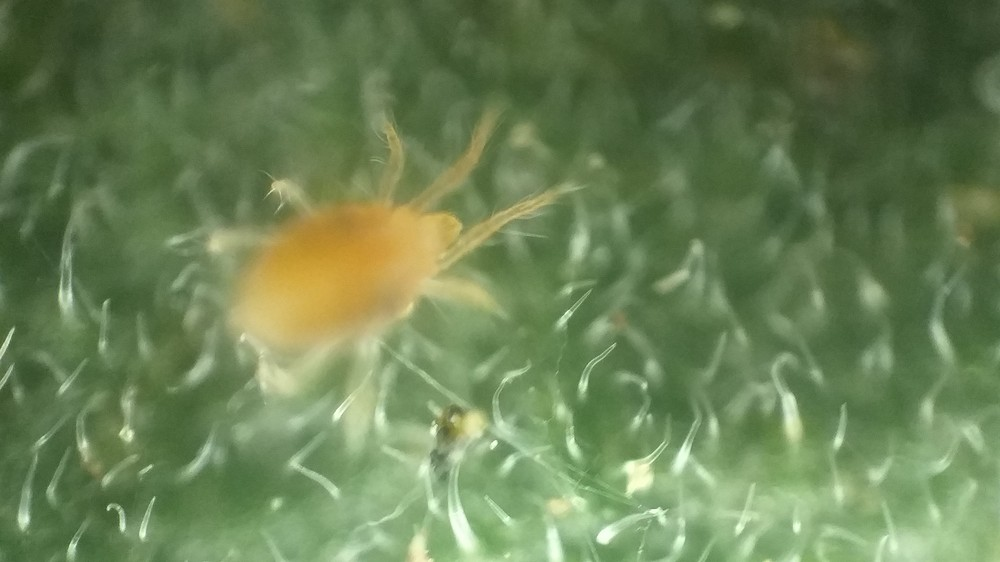Aracnido Rojo: (202, 95, 642, 420)
